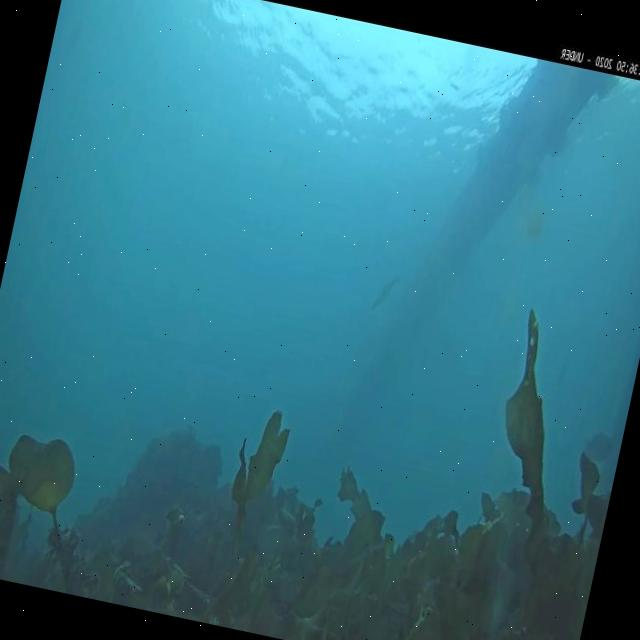fish: (368, 271, 402, 313), (580, 432, 616, 464)
